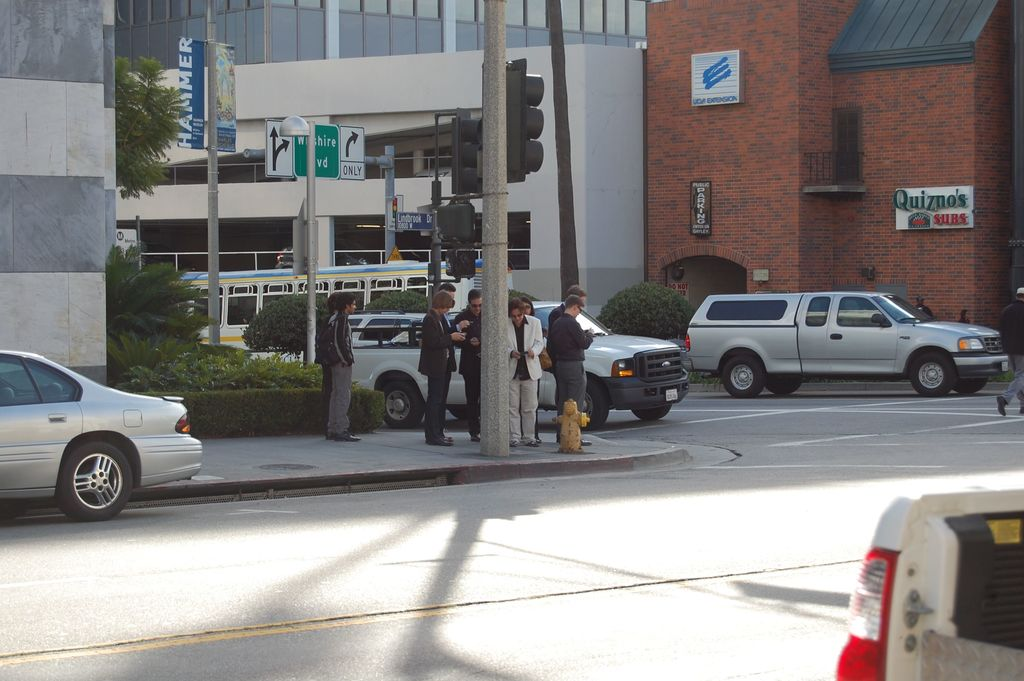Car: (343, 301, 686, 423), (828, 488, 1023, 680), (0, 336, 204, 516), (684, 288, 1018, 397)
